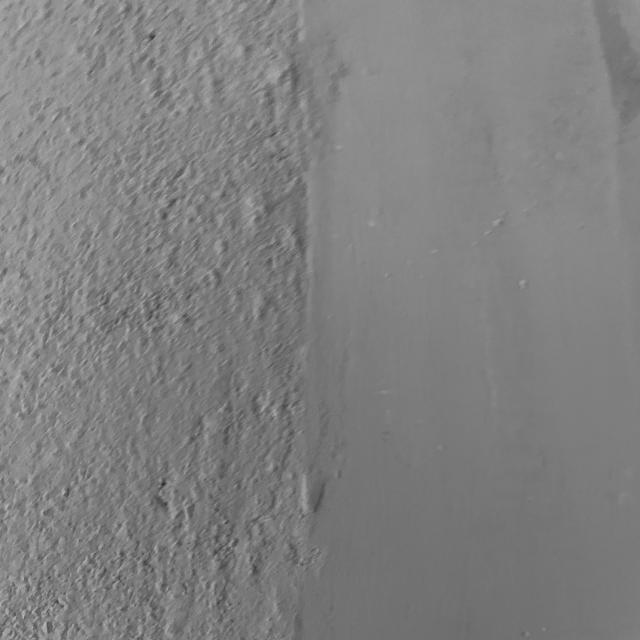rough and patchy surface: (1, 0, 340, 640)
